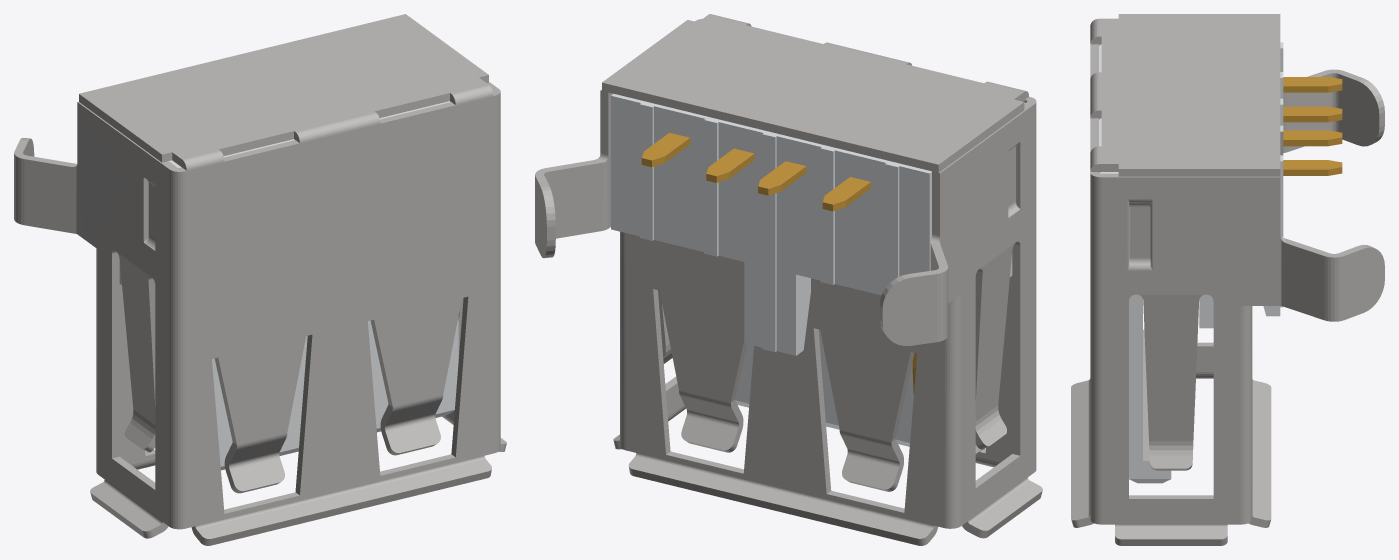
Rendered from femaleThruHoleUSB.obj.
3 renders of one model, left to right at view 1: azimuth 30°, elevation 25°; view 2: azimuth 150°, elevation 25°; view 3: azimuth 270°, elevation 25°, orthographic. The views are drawn at different scales.
Visible parts, largest first — view 1: femaleThruHoleUSB; view 2: femaleThruHoleUSB; view 3: femaleThruHoleUSB.
Part boxes in pixels (x1,y1,x2,y2): femaleThruHoleUSB: [14, 14, 506, 545]; femaleThruHoleUSB: [535, 14, 1042, 545]; femaleThruHoleUSB: [1071, 14, 1384, 545].
Bounding box in the file's own units: 0.0208 × 0.019 × 0.0147.
